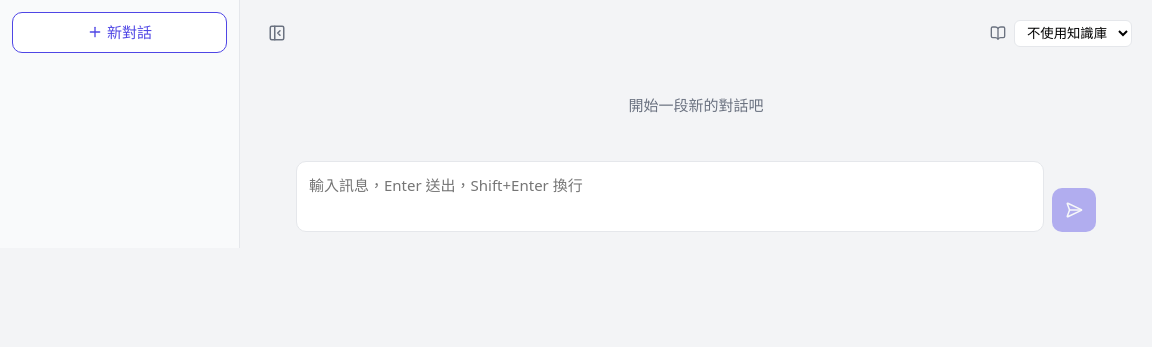
Test: ChatPage knowledge base selector › applies the chosen knowledge base to a new conversation before sending
Select "員工手冊" in the dropdown named "知識庫" at (1073, 33), box [1014,20,1132,46]
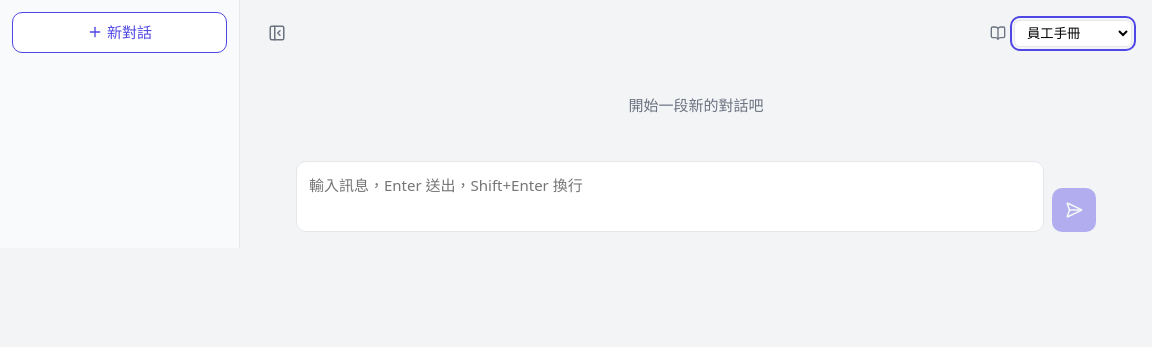
Type "特休幾天" into the text box at (670, 196), box [296,160,1044,232]
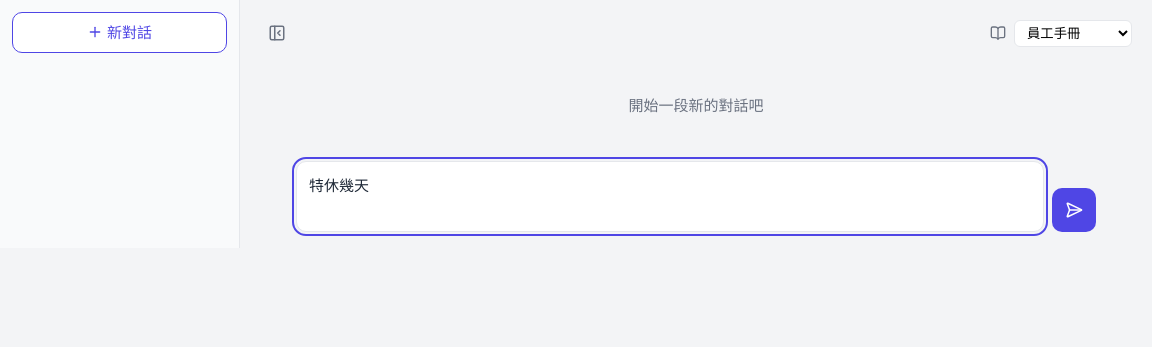
Click the button named "送出" at (1074, 210), box [1052,188,1096,232]
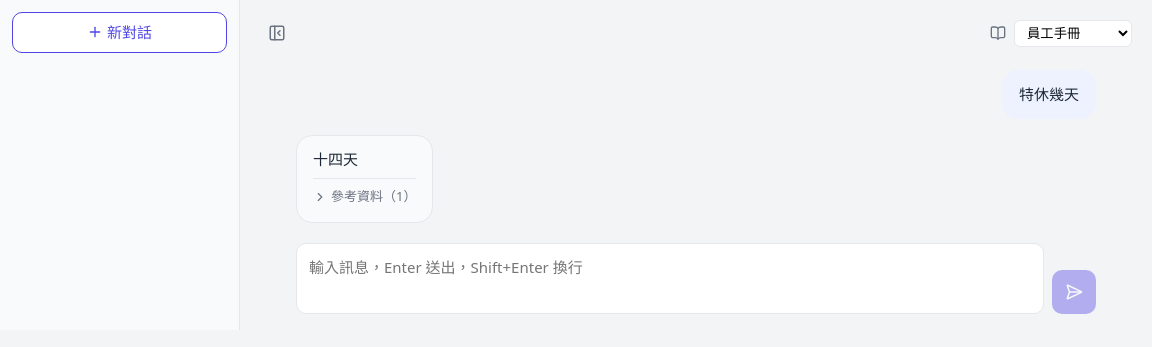
Expected: the button "參考資料（1）" is shown, [313,187,416,207]
